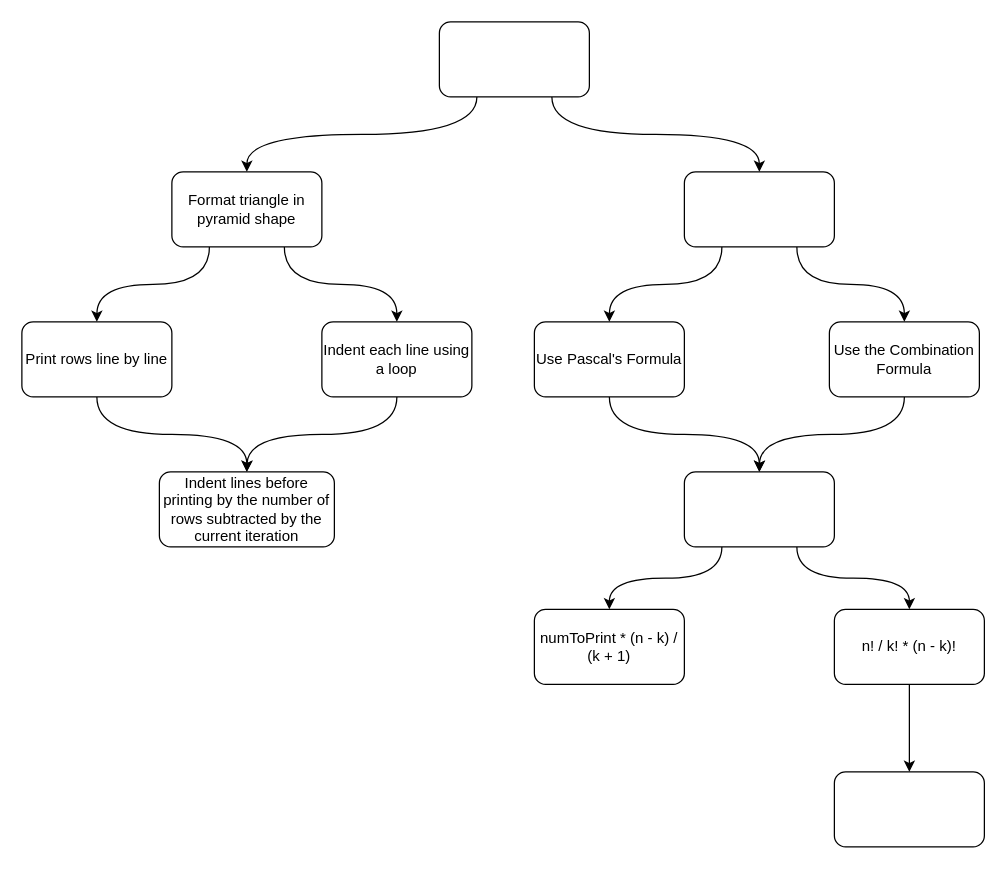
Image size: 1006x869. Some labels were removed from this diagram. The shapes that lost their labels are listed below. From the top down, each one's centre as x and y in pixels, then its label:
At point (513, 59): "Display Pascal's Triangle".
At point (758, 209): "Calculate Nnumbers in triangle".
At point (758, 509): "If the number is not 1 (Is not first or last number)".
At point (908, 809): "Use a recursive function: n * factorial(n - 1)".
